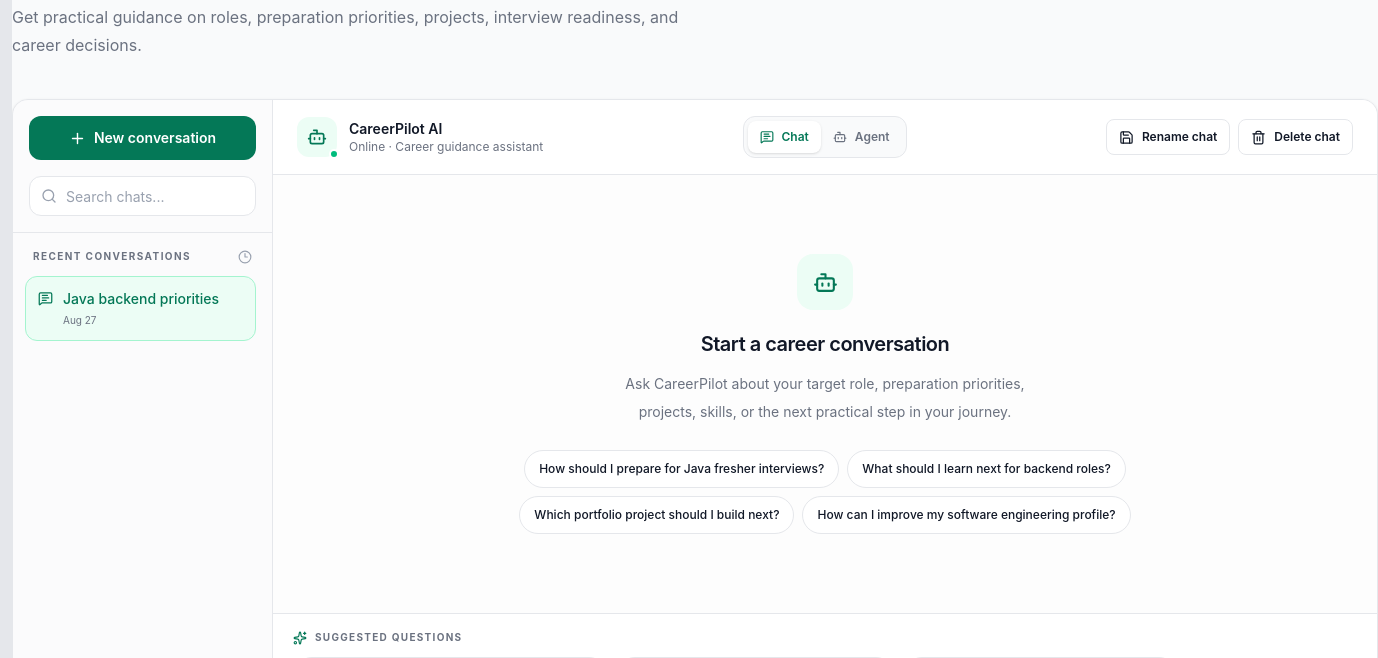
it: CareerAI Agent conversation memory › restores persisted Agent turns after initialization
Click the button "Agent" at (861, 137), box x1=821 y1=121 x2=902 y2=153
(page scrolled)
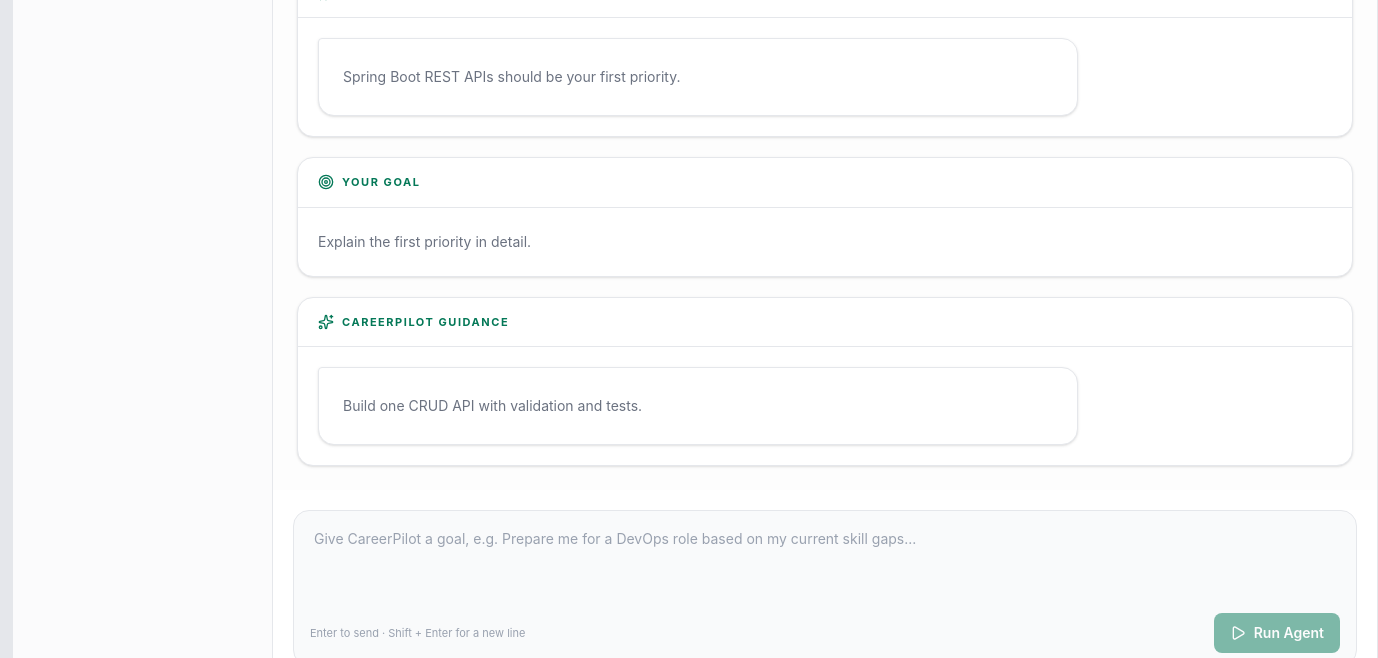
Expected: the text "Spring Boot REST APIs should be your first priority." is shown, x1=343 y1=68 x2=680 y2=85
Expected: the text "Explain the first priority in detail." is shown, x1=318 y1=232 x2=531 y2=250
Expected: the text "Build one CRUD API with validation and tests." is shown, x1=343 y1=397 x2=642 y2=414
